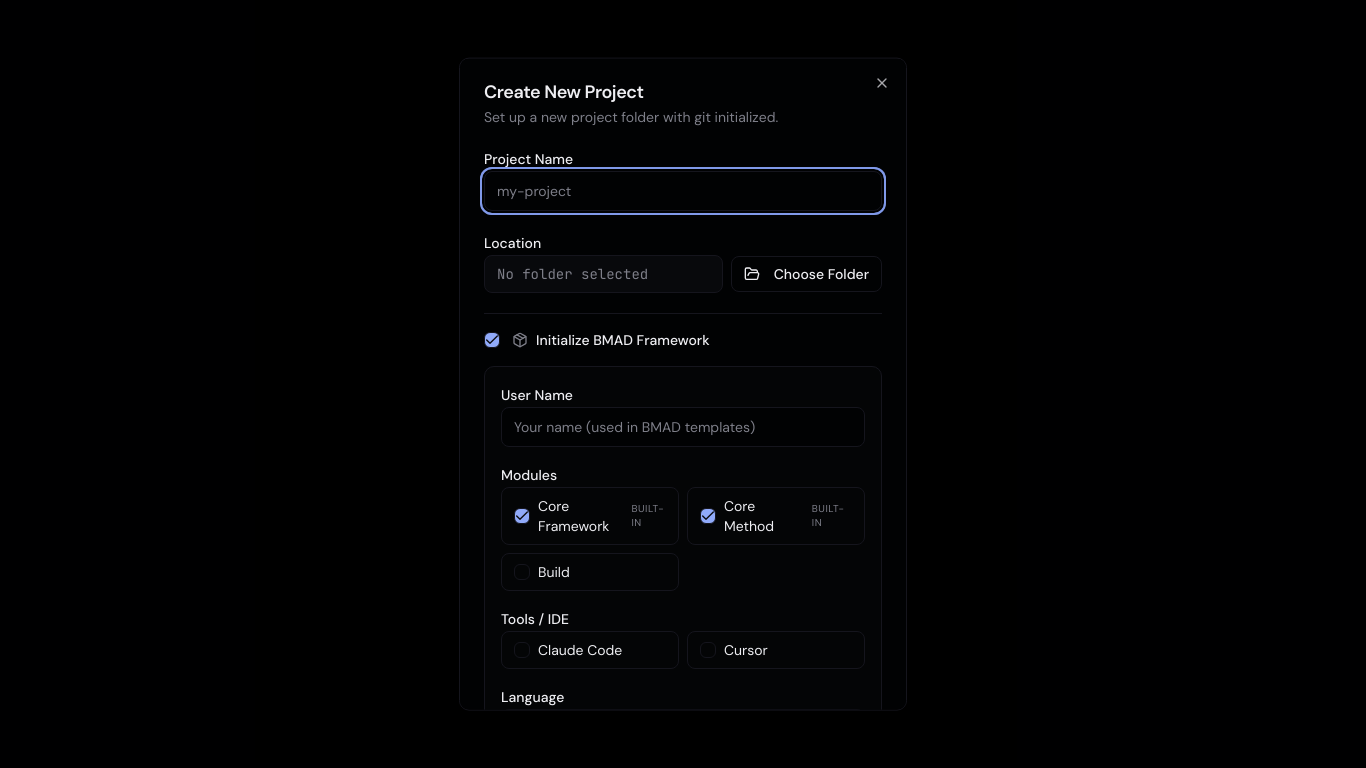
Test: NewProjectDialog › should hide BMAD config when checkbox is unchecked
The image size is (1366, 768).
Expected: the element with test id "bmad-config-section" is shown, [484,366,882,710]
// Uncheck the BMAD checkbox
Click the checkbox with test id "install-bmad-checkbox" at (492, 340), box [484,332,500,348]
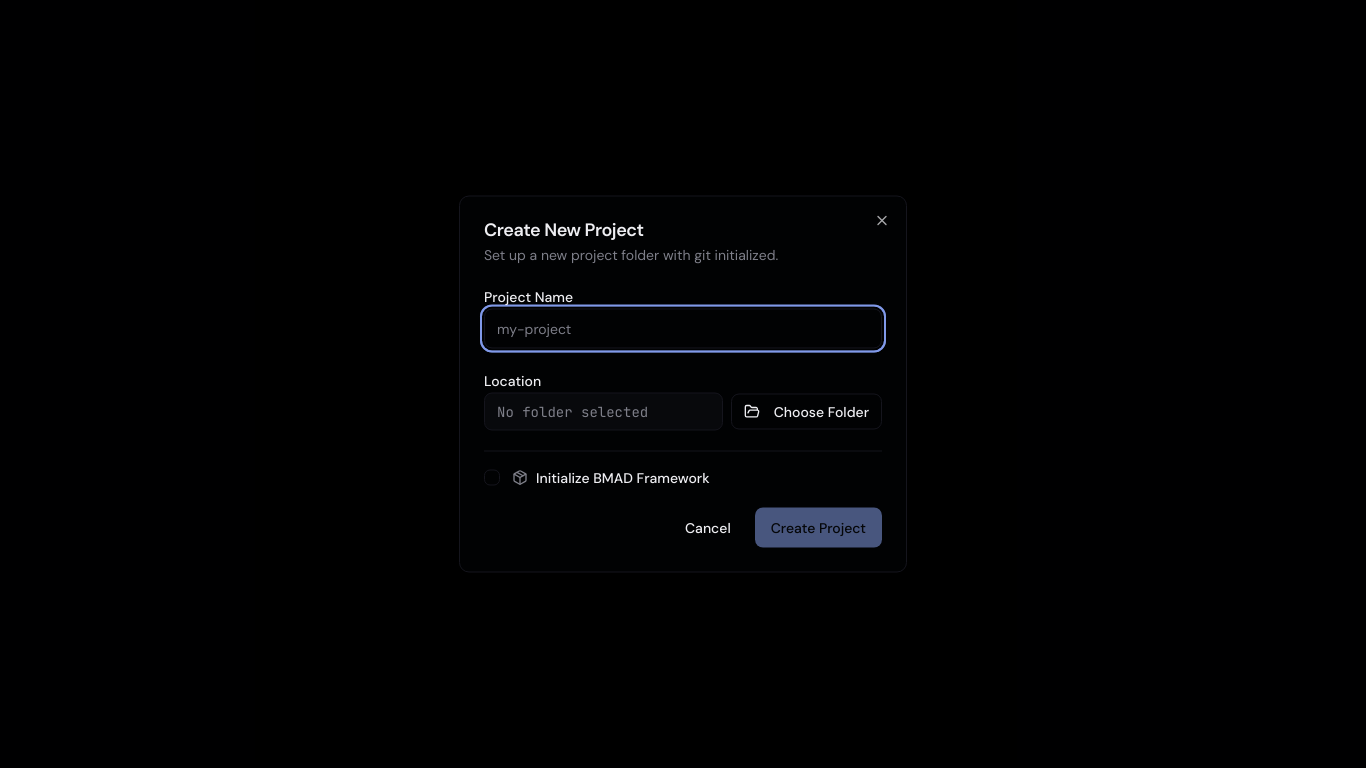
Now the element with test id "bmad-config-section" is gone
